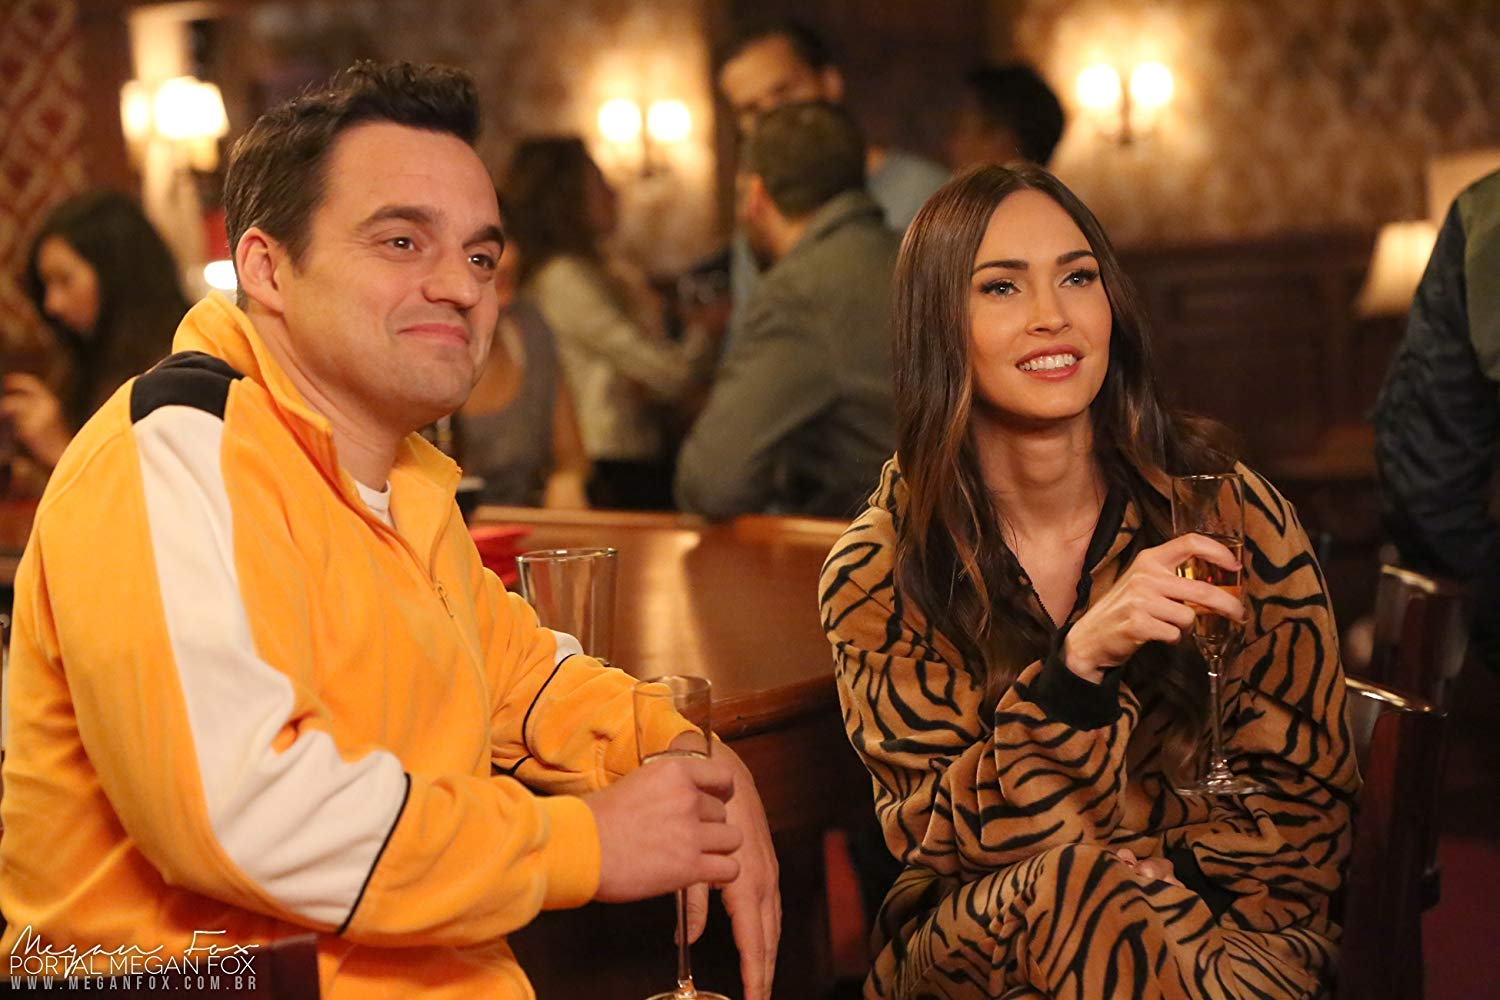person: (89, 68, 772, 1000), (807, 153, 1338, 1000)
